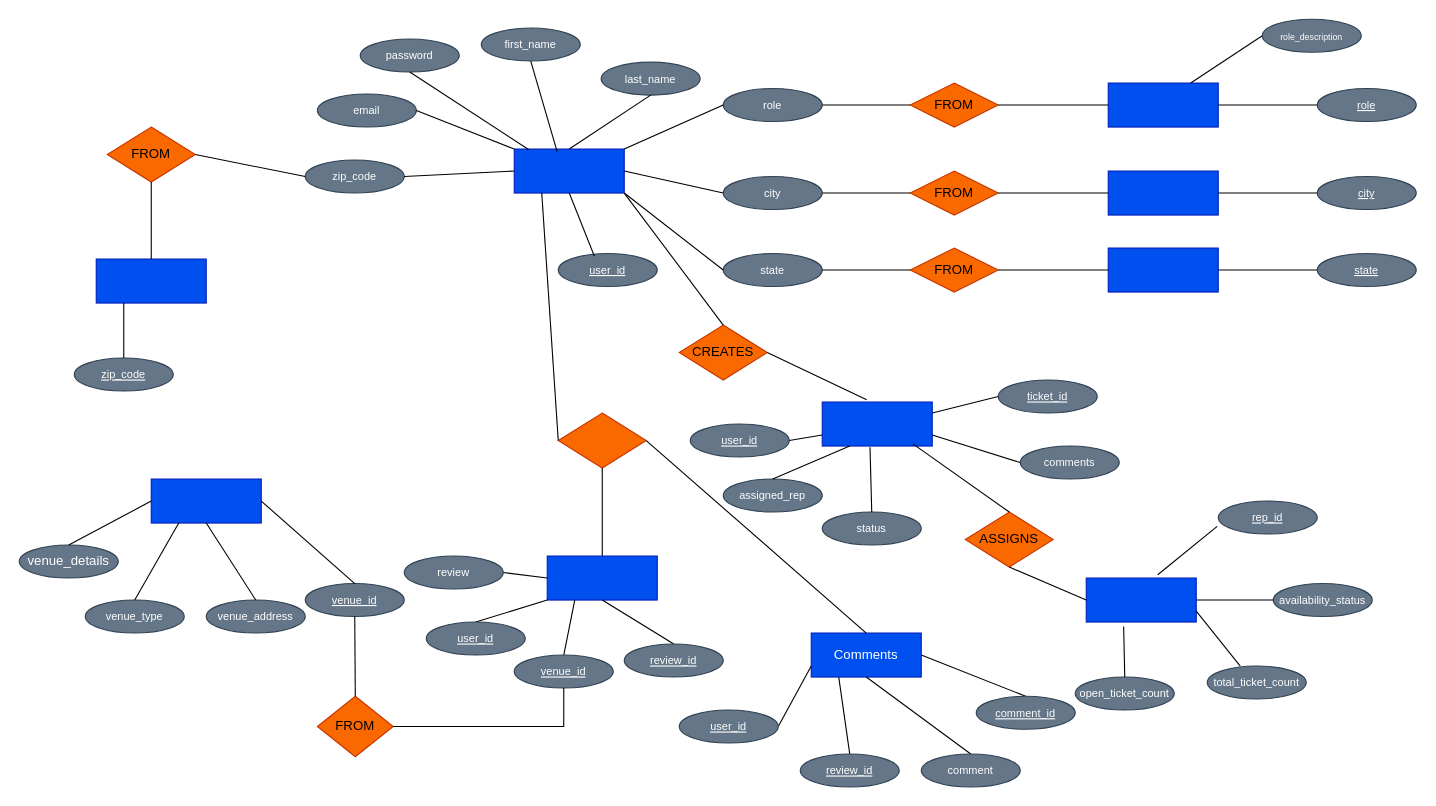
Some shapes in this 1436 by 806 pixel diagram are drawn without their labels. Each missing label, with the box of its shape:
city_list: (1107, 170, 1218, 215)
customersupport: (821, 401, 932, 446)
POSTS: (557, 412, 646, 468)
representative: (1085, 577, 1196, 622)
Reviews: (546, 555, 657, 600)
role_list: (1107, 82, 1218, 127)
state_list: (1107, 247, 1218, 292)
userdetails: (513, 148, 624, 193)
Venue: (150, 478, 261, 523)
zipcode_list: (95, 258, 206, 303)
